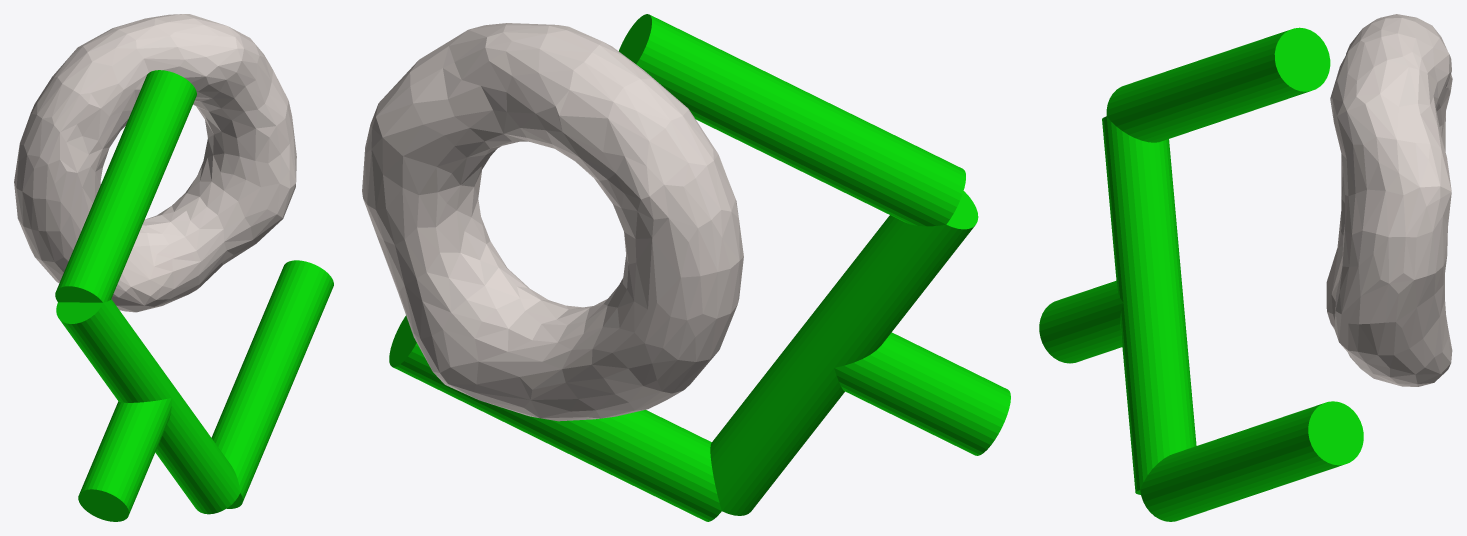
The model's file is round_001_trial_000.obj.
3 renders of one model, left to right at view 1: azimuth 30°, elevation 25°; view 2: azimuth 150°, elevation 25°; view 3: azimuth 270°, elevation 25°, orthographic. The views are drawn at different scales.
Visible parts, largest first — view 1: geometry_0, geometry_1; view 2: geometry_0, geometry_1; view 3: geometry_1, geometry_0.
Part boxes in pixels (left/top/right/bottom): geometry_0: left=14, top=14, right=296, bottom=312; geometry_1: left=55, top=70, right=333, bottom=521; geometry_0: left=362, top=23, right=743, bottom=421; geometry_1: left=389, top=14, right=1010, bottom=521; geometry_1: left=1039, top=27, right=1363, bottom=521; geometry_0: left=1326, top=14, right=1452, bottom=386.
Size of the model in its own units: 0.0748 by 0.085 by 0.0635.
